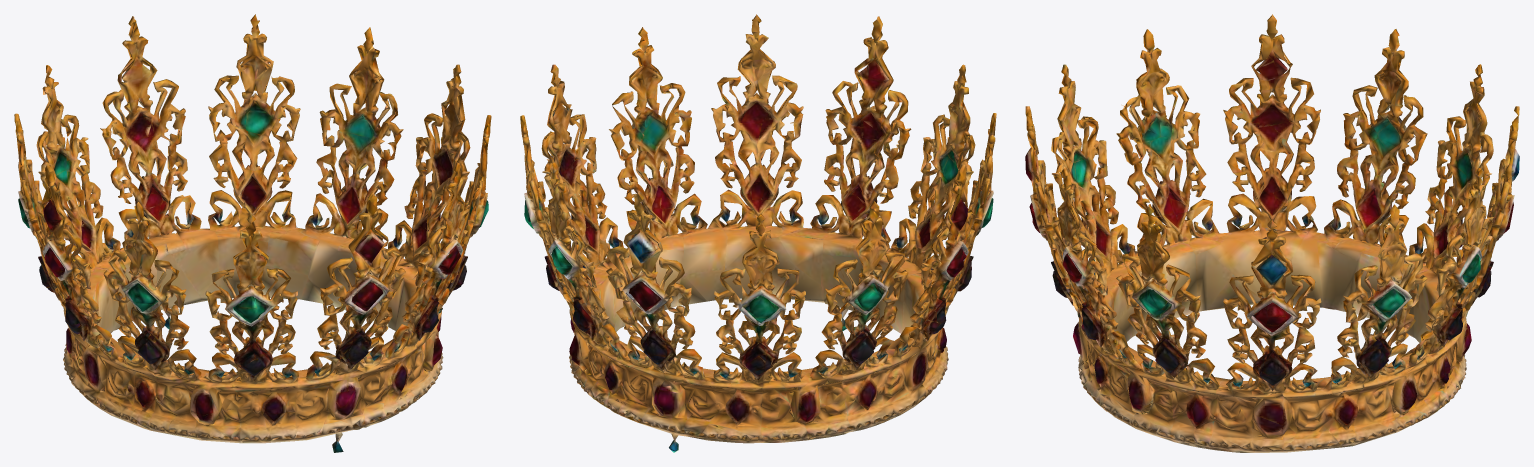
Rendered from The Architect.glb.
The picture shows the model from 3 angles, left to right: view 1: azimuth 30°, elevation 25°; view 2: azimuth 150°, elevation 25°; view 3: azimuth 270°, elevation 25°; orthographic projection. The views are drawn at different scales.
Bounding box in the file's own units: 1.88 × 1.25 × 1.9.
Materials: 1 (1 with a texture image).
